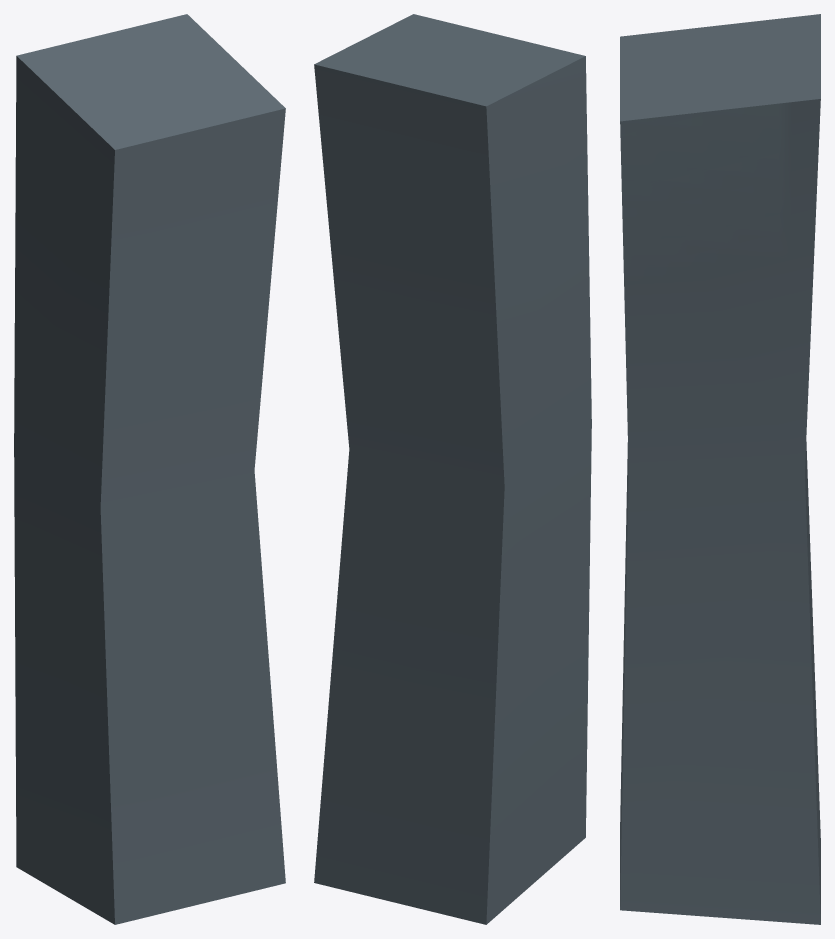
File: wood.fbx
The picture shows the model from 3 angles, left to right: view 1: azimuth 30°, elevation 25°; view 2: azimuth 150°, elevation 25°; view 3: azimuth 270°, elevation 25°; orthographic projection.
Visible parts, largest first — view 1: wood; view 2: wood; view 3: wood.
Part boxes in pixels (x1,y1,x2,y2): wood: (14, 14, 285, 924); wood: (314, 14, 591, 924); wood: (620, 14, 820, 924).
Bounding box in the file's own units: 4.09 × 17.53 × 3.86.
